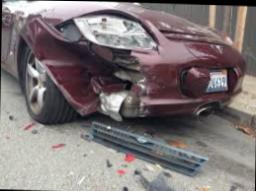Bumper: (24, 18, 165, 117)
